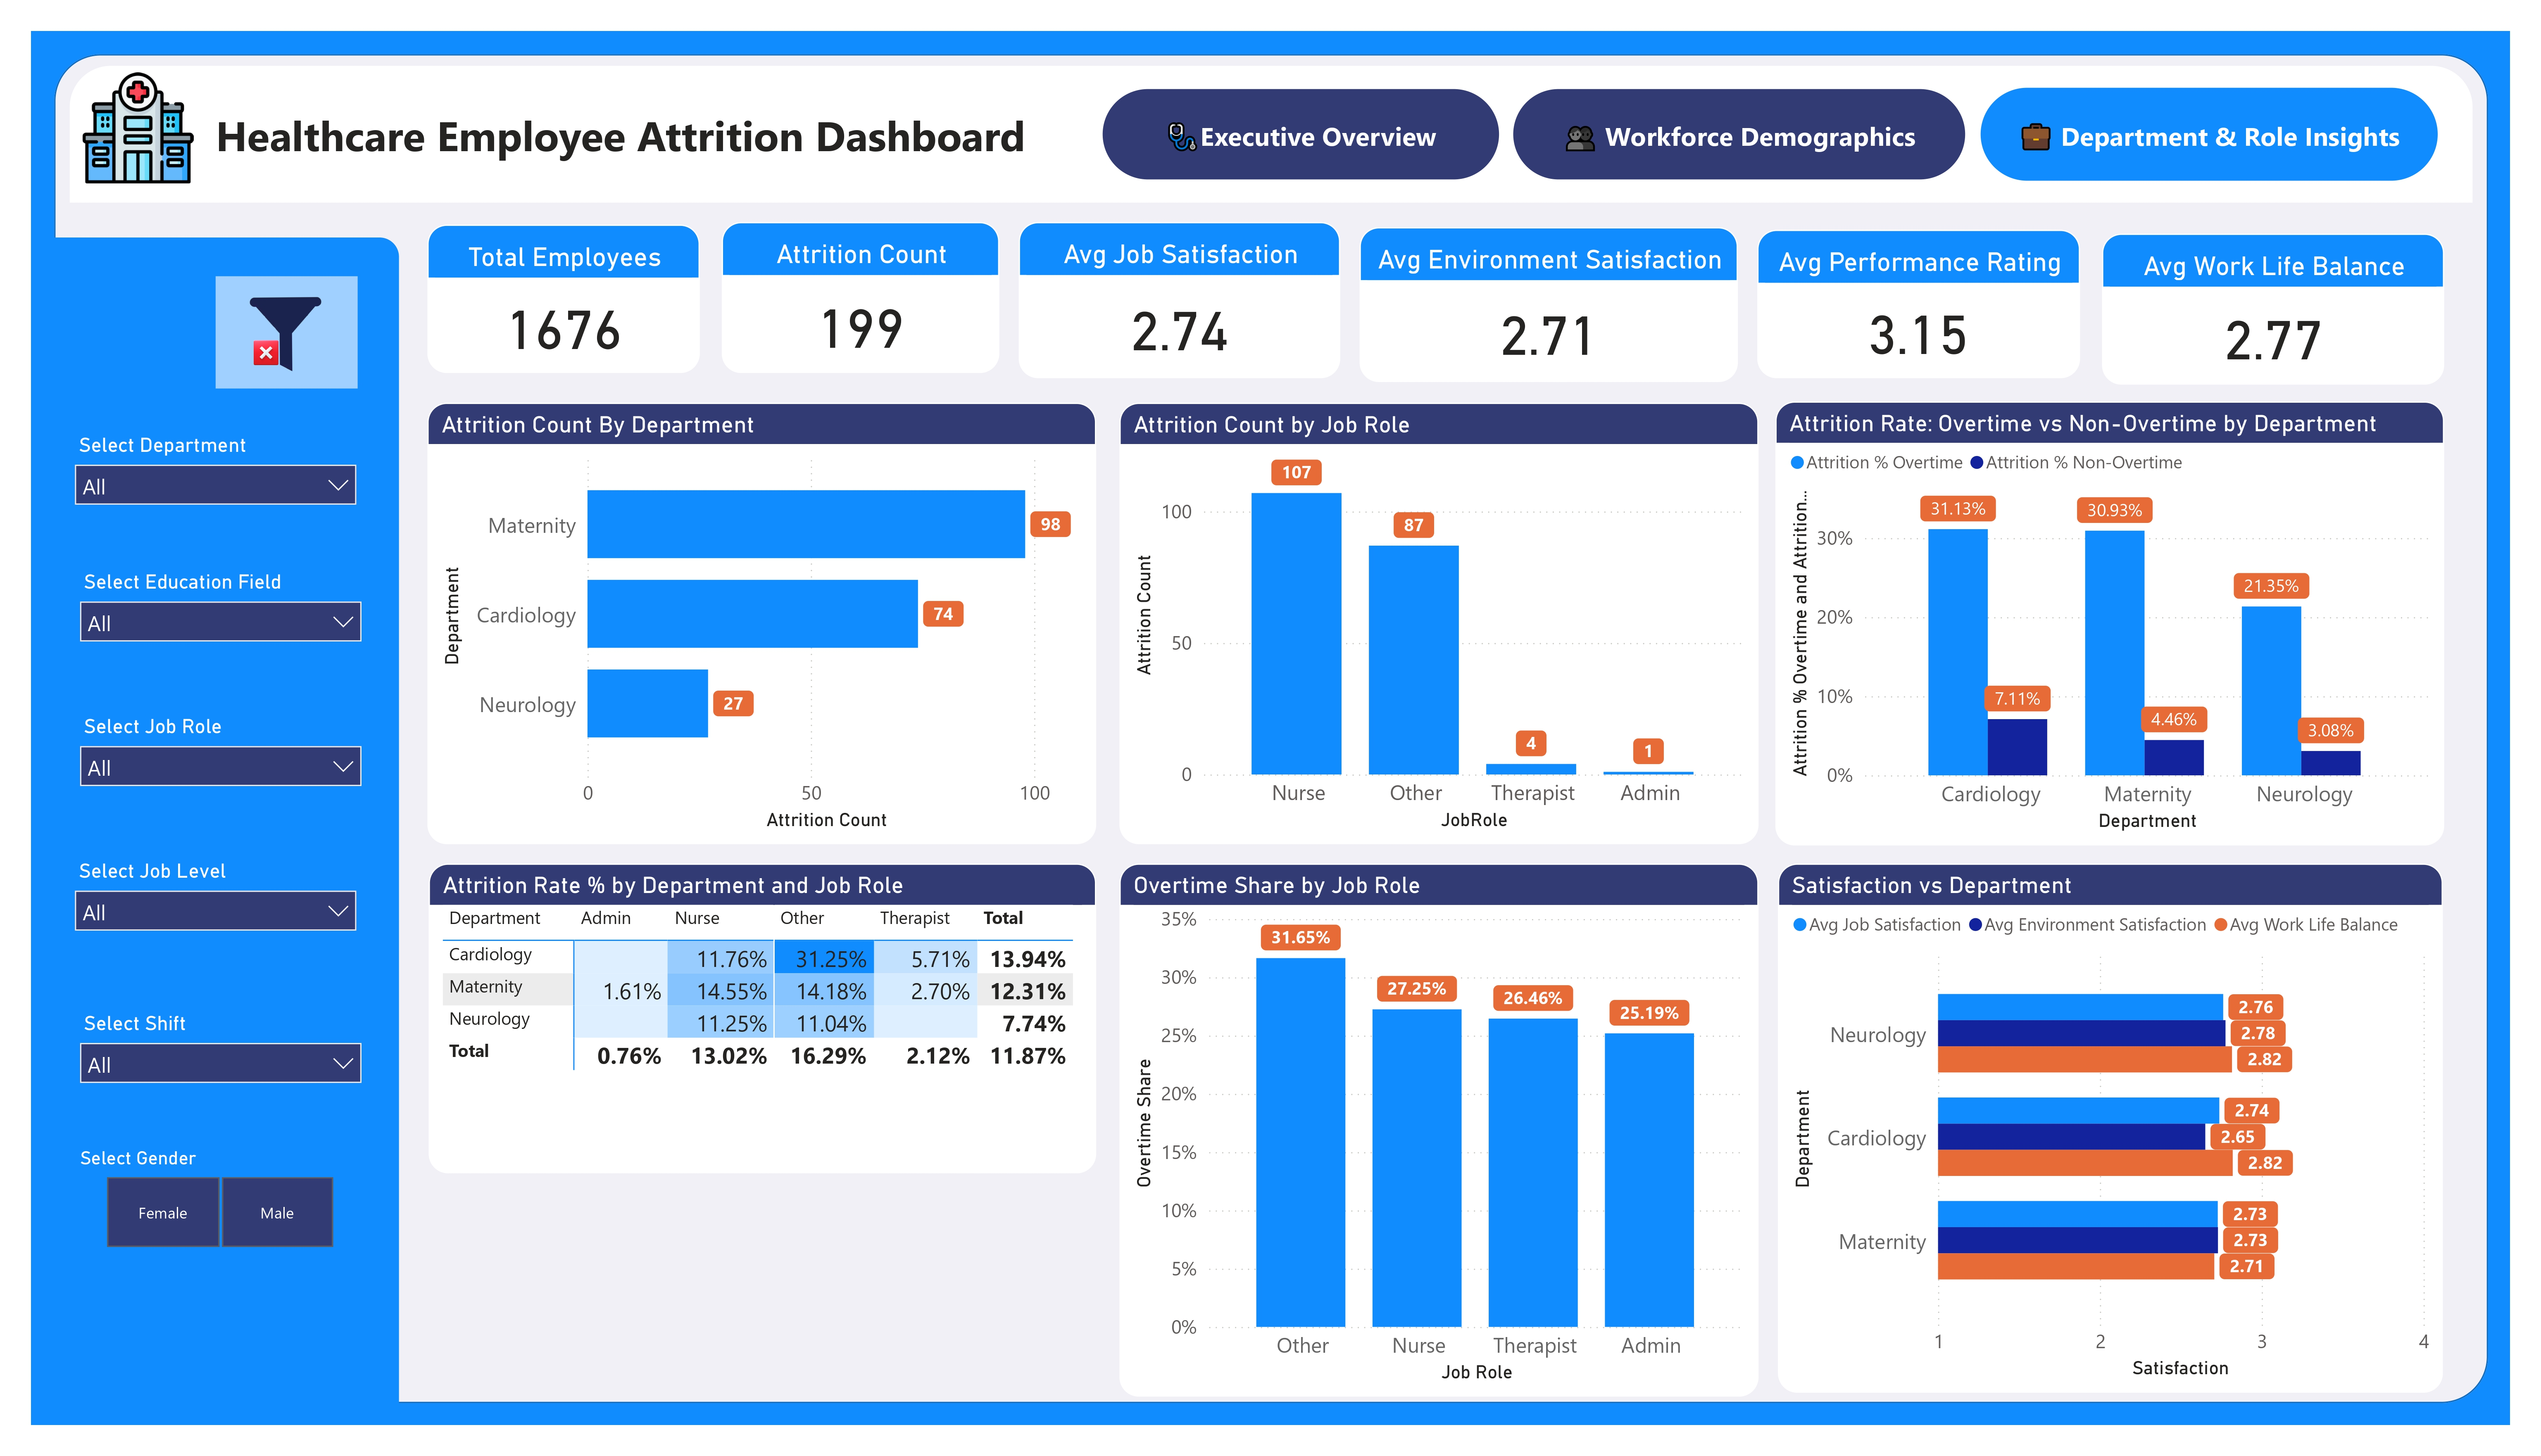

The dashboard page shown, as its layout file describes it:
{"tool":"powerbi","page":{"name":"Department & Role Insights","canvas":[1920,1080],"ordinal":2},"visuals":[{"type":"shape","box":[17.5,17.5,1885,1045],"z":0},{"type":"shape","box":[30,27.1,1861.4,105.7],"z":1000},{"type":"shape","box":[0,160,285,920],"z":2000},{"type":"card","title":"Total Employees","fields":{"Values":["Fact_EmployeeAttrition.Total Employees"]},"box":[307.3,150.2,210.4,114.9],"z":3000},{"type":"card","title":"Attrition Count","fields":{"Values":["Fact_EmployeeAttrition.Attrition Count"]},"box":[535,148,214.7,117.1],"z":4000},{"type":"card","title":"Avg Job Satisfaction","fields":{"Values":["Dim_Employee.Avg Job Satisfaction"]},"box":[764.9,148,249.4,121.4],"z":5000},{"type":"card","title":"Avg Environment Satisfaction","fields":{"Values":["Dim_Employee.Avg Environment Satisfaction"]},"box":[1029.5,152.3,292.8,119.3],"z":6000},{"type":"clusteredBarChart","title":"Attrition Count By Department","fields":{"Category":["Dim_Employee.Department"],"Y":["Fact_EmployeeAttrition.Attrition Count"]},"box":[307,287.5,518,342],"z":7000},{"type":"columnChart","title":"Attrition Count by Job Role","fields":{"Category":["Dim_Employee.JobRole"],"Y":["Fact_EmployeeAttrition.Attrition Count"]},"box":[842.5,287.5,495,342.5],"z":8000},{"type":"slicer","fields":{"Values":["Dim_Employee.Department"]},"box":[18.3,300,250,75],"z":9000},{"type":"slicer","fields":{"Values":["Dim_Employee.JobRole"]},"box":[22,518,250,76],"z":10000},{"type":"slicer","fields":{"Values":["Dim_Education.EducationField"]},"box":[22,406,250,76],"z":11000},{"type":"clusteredColumnChart","title":"Attrition Rate: Overtime vs Non-Overtime by Department","fields":{"Category":["Dim_Employee.Department"],"Y":["Dim_Employee.Attrition % Overtime","Dim_Employee.Attrition % Non-Overtime"]},"box":[1351.4,287.1,517.1,344.3],"z":13000},{"type":"clusteredBarChart","title":"Satisfaction vs Department","fields":{"Category":["Dim_Employee.Department"],"Y":["Dim_Employee.Avg Job Satisfaction","Dim_Employee.Avg Environment Satisfaction","Dim_Employee.Avg Work Life Balance"]},"box":[1352.5,645,515,410],"z":14000},{"type":"slicer","fields":{"Values":["Dim_Employee.JoblevelLabel"]},"box":[18,630,250,74],"z":15000},{"type":"slicer","title":"Select Gender","fields":{"Values":["Dim_Employee.Gender"]},"box":[32,864,222,86],"z":16000},{"type":"image","box":[143.3,190,110,86.7],"z":19000},{"type":"card","title":"Avg Performance Rating","fields":{"Values":["Dim_Employee.Avg Performance Rating"]},"box":[1337.4,154.5,249.4,114.9],"z":20000},{"type":"card","title":"Avg Work Life Balance","fields":{"Values":["Dim_Employee.Avg Work Life Balance"]},"box":[1604.2,156.7,264.6,117.1],"z":21000},{"type":"slicer","fields":{"Values":["Dim_Employee.ShiftLabel"]},"box":[22,748,250,74],"z":22000},{"type":"textbox","box":[137.5,52.5,740,55],"z":23000},{"type":"actionButton","box":[830,45,306.7,70],"z":24000},{"type":"actionButton","box":[1148.3,45,350,70],"z":25000},{"type":"actionButton","box":[1510,44.3,354.3,71.4],"z":26000},{"type":"image","box":[22.9,27.1,120,95.7],"z":27000},{"type":"clusteredColumnChart","title":"Overtime Share by Job Role","fields":{"Category":["Dim_Employee.JobRole"],"Y":["Dim_Education.Overtime Share"]},"box":[842.5,645,495,412.5],"z":28000},{"type":"pivotTable","title":"Attrition Rate % by Department and Job Role","fields":{"Columns":["Dim_Employee.JobRole"],"Rows":["Dim_Employee.Department"],"Values":["Fact_EmployeeAttrition.Attrition Rate %"]},"box":[307.5,645,517.5,240],"z":29000}]}

Visuals, with their boxes on the page's 1920x1080 design canvas (x1, y1, x2, y2). These are canvas units, not pixel positions in the 2541x1456 screenshot, which may show the page scaled, cropped or inside an application window:
shape: 18/18/1902/1062
shape: 30/27/1891/133
shape: 0/160/285/1080
"Total Employees" card: 307/150/518/265
"Attrition Count" card: 535/148/750/265
"Avg Job Satisfaction" card: 765/148/1014/269
"Avg Environment Satisfaction" card: 1030/152/1322/272
"Attrition Count By Department" clusteredBarChart: 307/288/825/630
"Attrition Count by Job Role" columnChart: 842/288/1338/630
slicer - Dim_Employee.Department: 18/300/268/375
slicer - Dim_Employee.JobRole: 22/518/272/594
slicer - Dim_Education.EducationField: 22/406/272/482
"Attrition Rate: Overtime vs Non-Overtime by Department" clusteredColumnChart: 1351/287/1868/631
"Satisfaction vs Department" clusteredBarChart: 1352/645/1868/1055
slicer - Dim_Employee.JoblevelLabel: 18/630/268/704
"Select Gender" slicer: 32/864/254/950
image: 143/190/253/277
"Avg Performance Rating" card: 1337/154/1587/269
"Avg Work Life Balance" card: 1604/157/1869/274
slicer - Dim_Employee.ShiftLabel: 22/748/272/822
textbox: 138/52/878/108
actionButton: 830/45/1137/115
actionButton: 1148/45/1498/115
actionButton: 1510/44/1864/116
image: 23/27/143/123
"Overtime Share by Job Role" clusteredColumnChart: 842/645/1338/1058
"Attrition Rate % by Department and Job Role" pivotTable: 308/645/825/885
